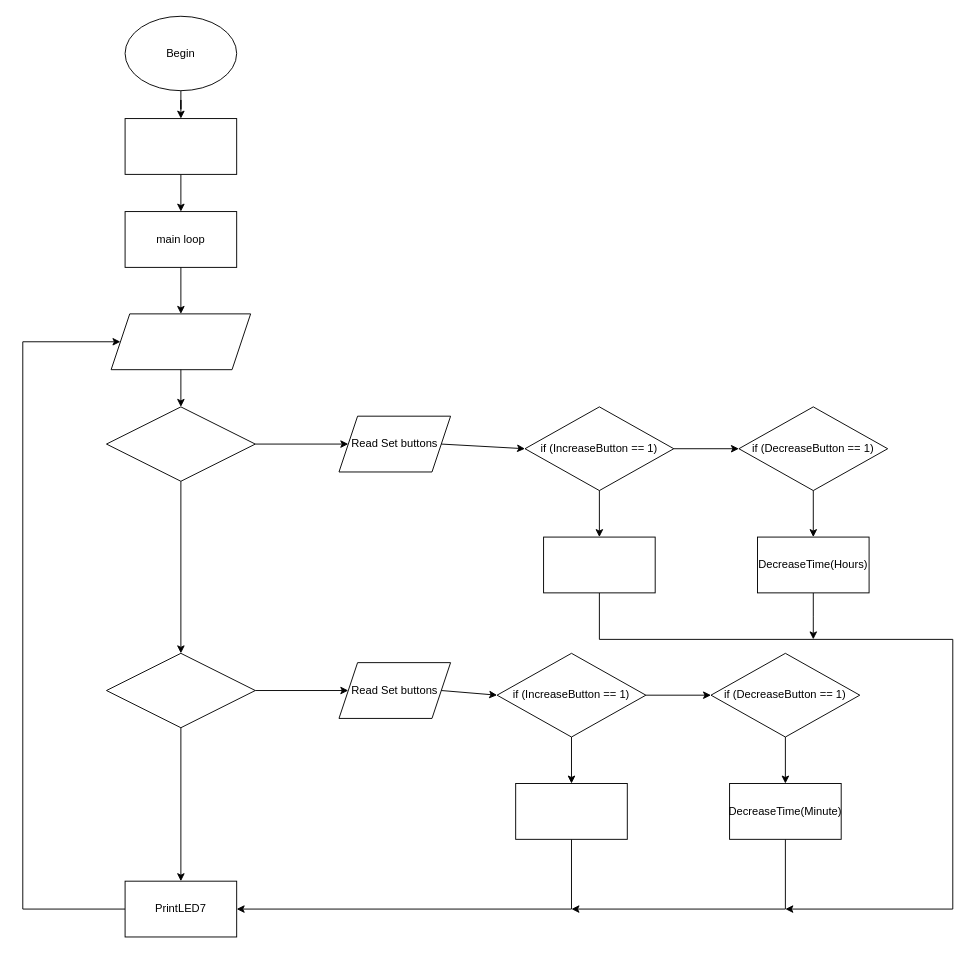
This 977x953 diagram has some shape labels left out. The box of each missing label's shape, as (x1, y1, x2, y2) in pixels:
if (ModeButton == 2): (106, 406, 255, 481)
if (ModeButton == 3): (106, 652, 255, 728)
IncreaseTIme(hours): (543, 536, 655, 593)
IncreaseTime(Minutes): (515, 783, 627, 839)
Read ModeButtons: (110, 313, 251, 370)
Set up initial values: (124, 118, 237, 174)
